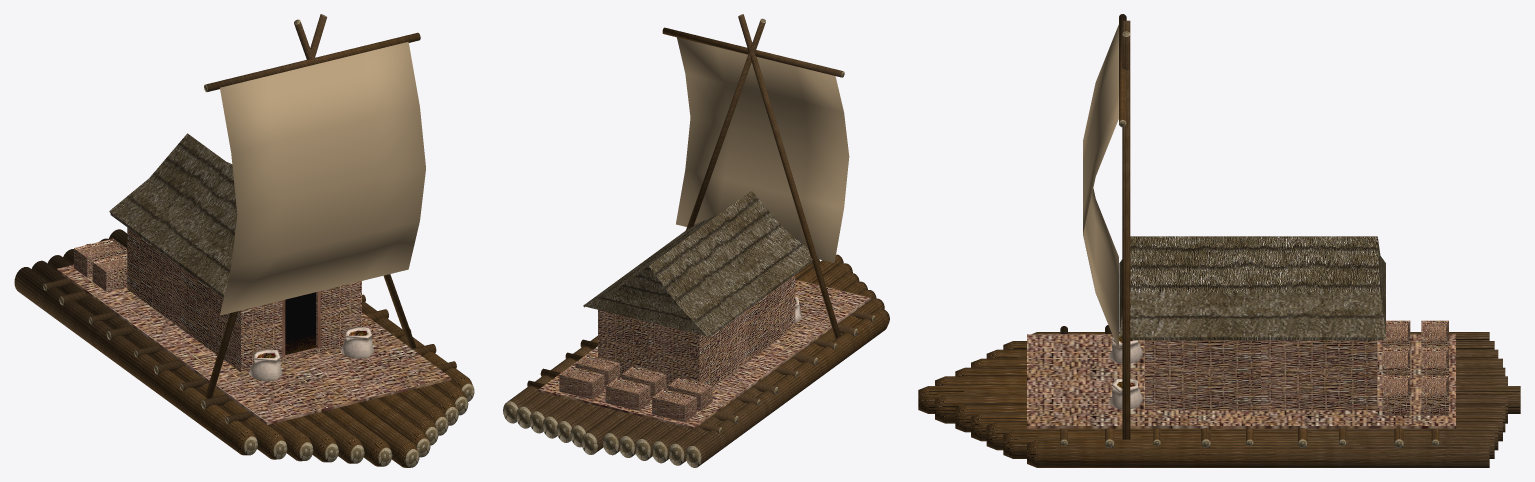
File: inca_balsa_guerra.dae
3 renders of one model, left to right at view 1: azimuth 30°, elevation 25°; view 2: azimuth 150°, elevation 25°; view 3: azimuth 270°, elevation 25°, orthographic. The views are drawn at different scales.
Visible parts, largest first — view 1: balsa_war; view 2: balsa_war; view 3: balsa_war.
Boxes of the visible parts, bbox=[...] form: balsa_war: bbox=[14, 14, 474, 467]; balsa_war: bbox=[503, 14, 889, 467]; balsa_war: bbox=[918, 14, 1520, 467].
Size of the model in its own units: 12.88 by 27.85 by 19.76.
